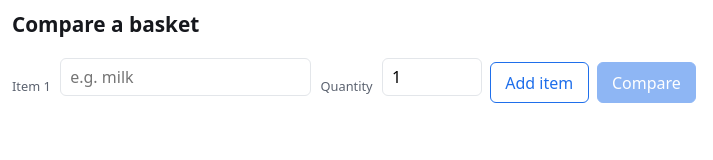
Test: BasketPage › surfaces a backend failure instead of silently doing nothing
In the field labelled "Item 1": (186, 77) [60,58,311,96], type "milk"
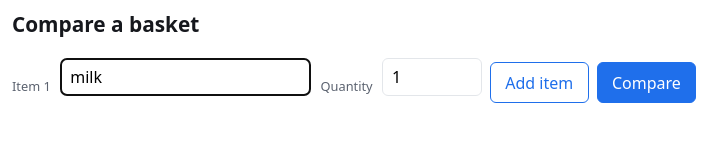
Click the button "Compare": (646, 83) [597,62,696,103]
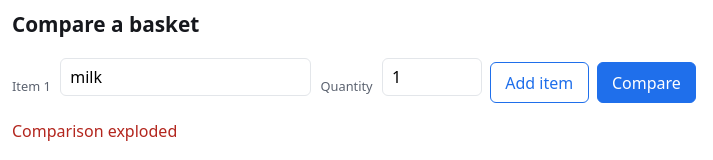
Result: the message reads "Comparison exploded" at [12,120,177,142]
